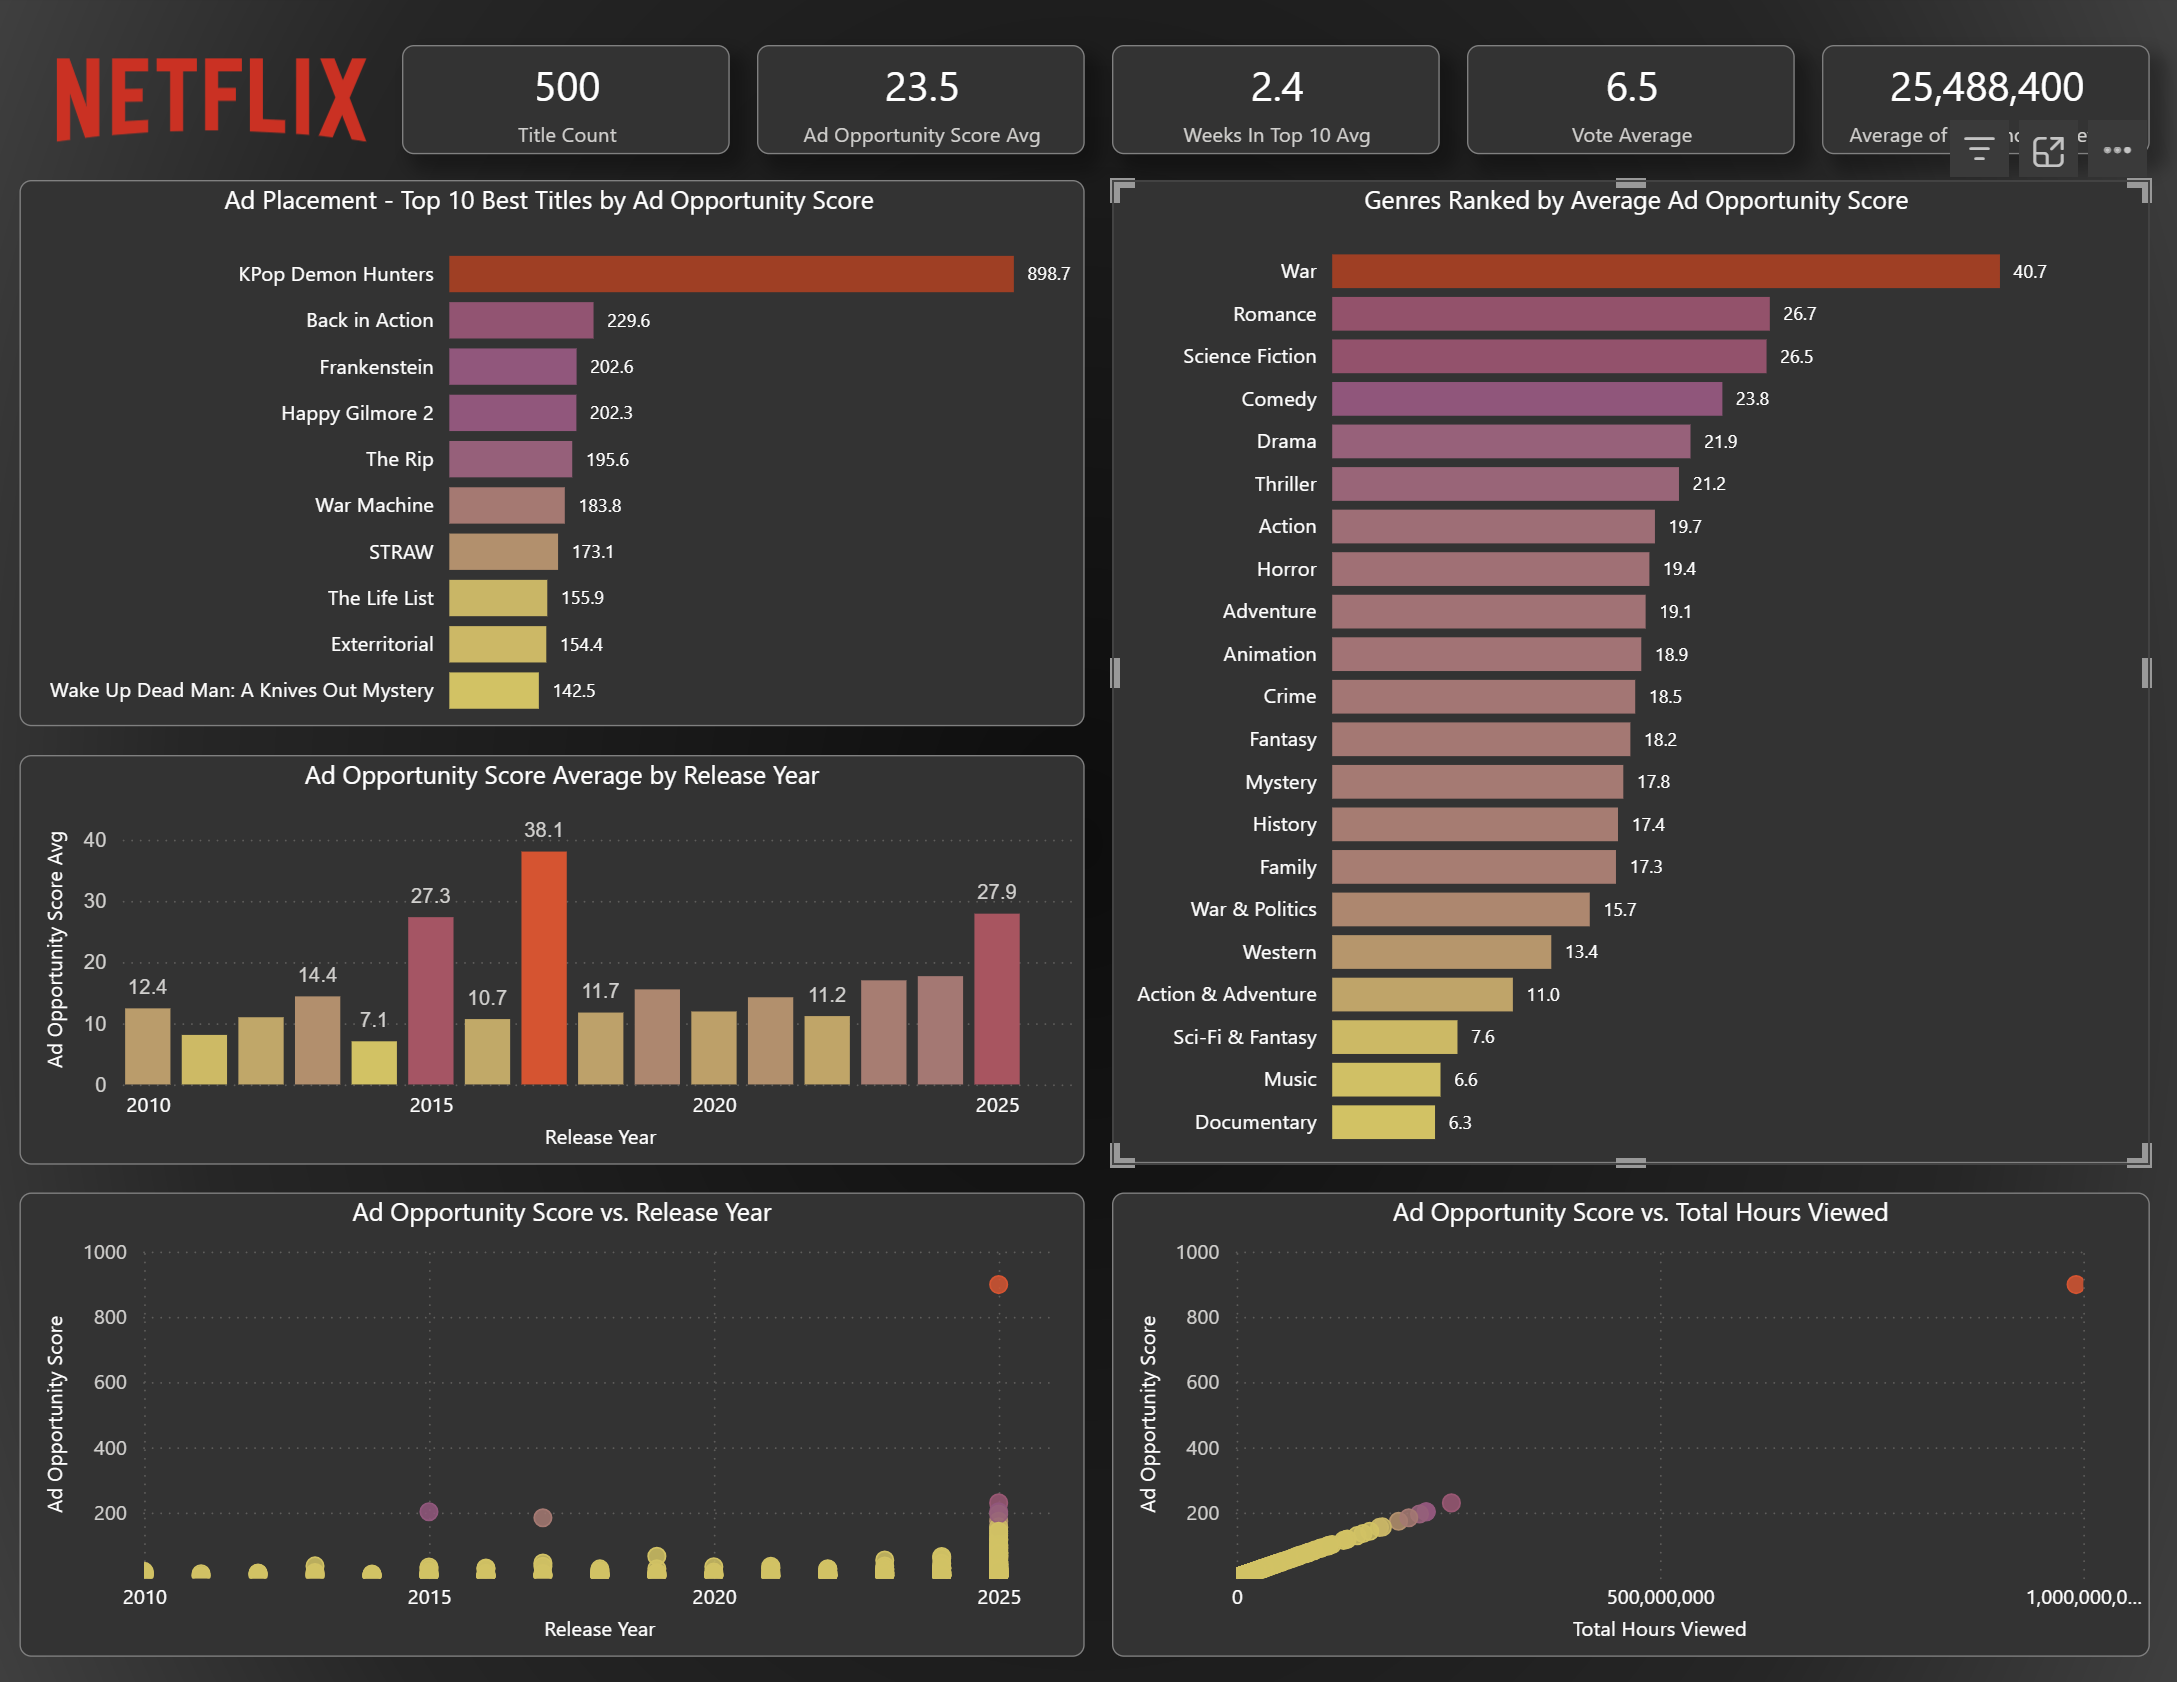

The page's visual inventory and layout, read from the dashboard file:
{"tool":"powerbi","page":{"name":"Ad Opportunity Score Dashboard","canvas":[1280,1000],"ordinal":0},"visuals":[{"type":"simpleImageEBC4593F96F1425FB3D84C5BF02B5075","title":"Logo","fields":{"imageURL":["Netflix_Logo.Neflix Logo"]},"box":[32,16,192,96],"z":3000},{"type":"card","fields":{"Values":["CountNonNull(netflix_ads_analytics_final.title)"]},"box":[240,32,192,64],"z":4000},{"type":"card","fields":{"Values":["Avg(netflix_ads_analytics_final.ad_opportunity_score)"]},"box":[448,32,192,64],"z":5000},{"type":"card","fields":{"Values":["Avg(netflix_ads_analytics_final.weeks_in_top10)"]},"box":[656,32,192,64],"z":6000},{"type":"card","fields":{"Values":["Avg(netflix_ads_analytics_final.total_hours_viewed)"]},"box":[1072,32,192,64],"z":7000},{"type":"card","fields":{"Values":["Avg(netflix_ads_analytics_final.vote_average)"]},"box":[864,32,192,64],"z":8000},{"type":"clusteredBarChart","title":"Ad Placement - Top 10 Best Titles by Ad Opportunity Score","fields":{"Category":["netflix_ads_analytics_final.title"],"Y":["Sum(netflix_ads_analytics_final.ad_opportunity_score)"]},"box":[16,112,624,320],"z":9000},{"type":"clusteredBarChart","title":"Genres Ranked by Average Ad Opportunity Score","fields":{"Category":["netflix_ads_genres_exploded.genres"],"Y":["Avg(netflix_ads_analytics_final.ad_opportunity_score)"]},"box":[656,112,608,576],"z":10000},{"type":"scatterChart","title":"Ad Opportunity Score vs. Release Year","fields":{"Y":["Sum(netflix_ads_analytics_final.ad_opportunity_score)"],"X":["Sum(netflix_ads_analytics_final.release_year)"],"Category":["netflix_ads_analytics_final.title"]},"box":[16,704,624,272],"z":11000},{"type":"clusteredColumnChart","title":"Ad Opportunity Score Average by Release Year","fields":{"Category":["netflix_ads_analytics_final.release_year"],"Y":["Avg(netflix_ads_analytics_final.ad_opportunity_score)"]},"box":[16,448,624,240],"z":12000},{"type":"scatterChart","title":"Ad Opportunity Score vs. Total Hours Viewed","fields":{"Y":["Sum(netflix_ads_analytics_final.ad_opportunity_score)"],"X":["Sum(netflix_ads_analytics_final.total_hours_viewed)"],"Category":["netflix_ads_analytics_final.title"]},"box":[656,704,608,272],"z":13000}]}

Visuals, with their boxes in screenshot pixels (x1, y1, x2, y2), scaled from the page's 1280x1000 canvas onto the 2177x1682 screenshot:
"Logo" simpleImageEBC4593F96F1425FB3D84C5BF02B5075: region(54, 27, 381, 188)
card - CountNonNull(netflix_ads_analytics_final.title): region(408, 54, 735, 161)
card - Avg(netflix_ads_analytics_final.ad_opportunity_score): region(762, 54, 1088, 161)
card - Avg(netflix_ads_analytics_final.weeks_in_top10): region(1116, 54, 1442, 161)
card - Avg(netflix_ads_analytics_final.total_hours_viewed): region(1823, 54, 2150, 161)
card - Avg(netflix_ads_analytics_final.vote_average): region(1469, 54, 1796, 161)
"Ad Placement - Top 10 Best Titles by Ad Opportunity Score" clusteredBarChart: region(27, 188, 1088, 727)
"Genres Ranked by Average Ad Opportunity Score" clusteredBarChart: region(1116, 188, 2150, 1157)
"Ad Opportunity Score vs. Release Year" scatterChart: region(27, 1184, 1088, 1642)
"Ad Opportunity Score Average by Release Year" clusteredColumnChart: region(27, 754, 1088, 1157)
"Ad Opportunity Score vs. Total Hours Viewed" scatterChart: region(1116, 1184, 2150, 1642)
